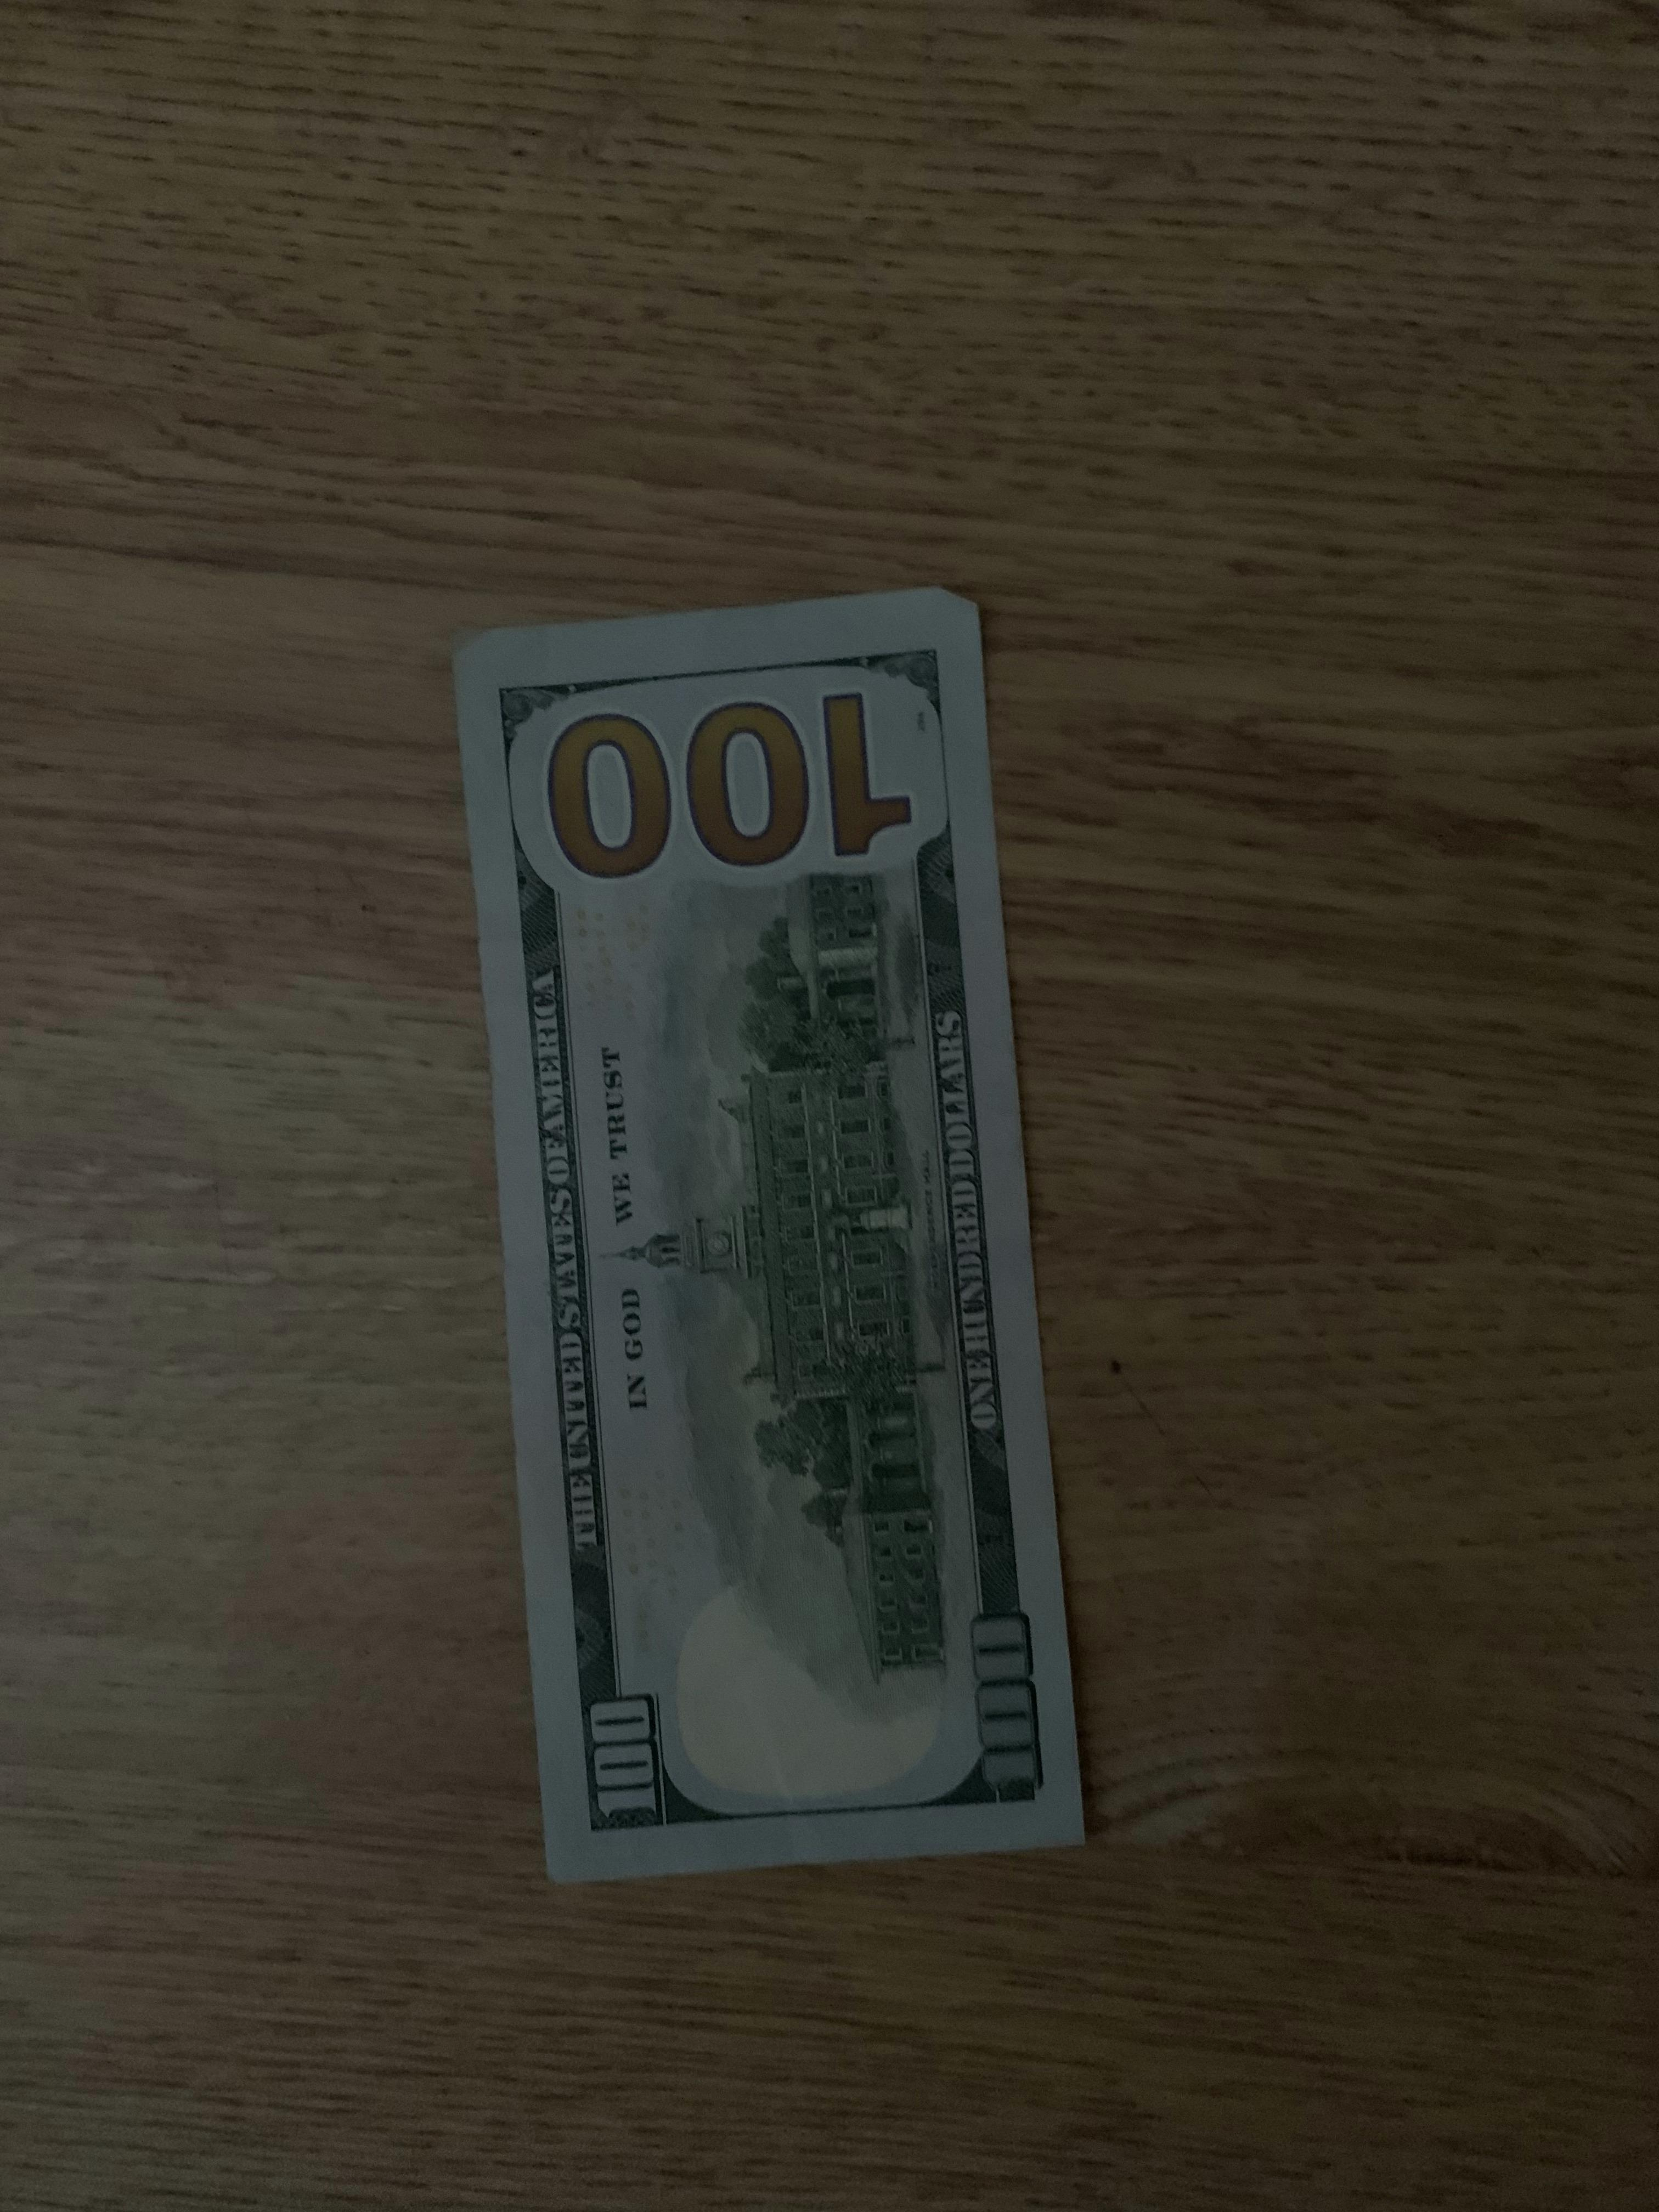HundredBill: (437, 587, 1107, 1879)
